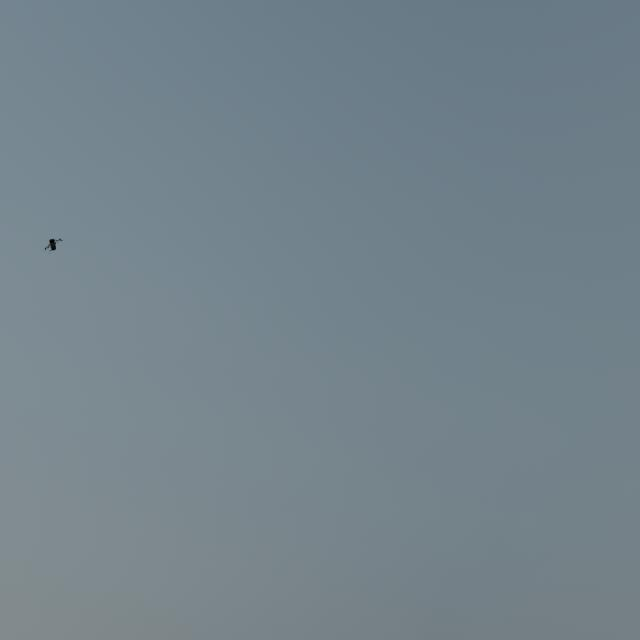drone: (43, 238, 63, 254)
